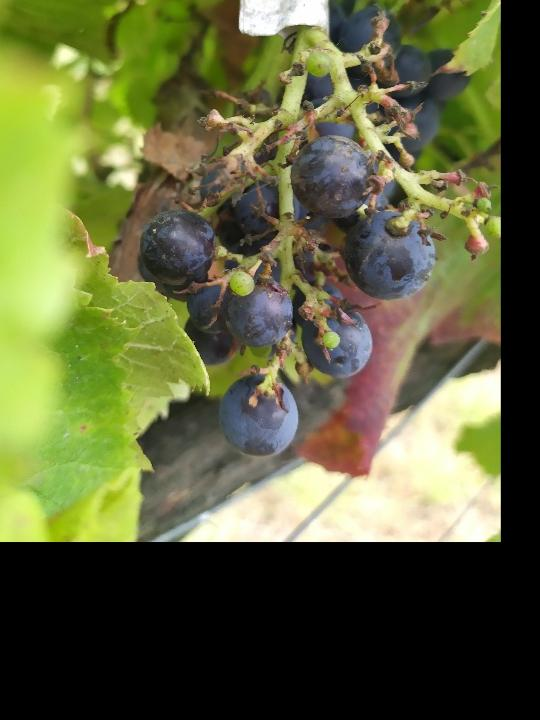grape: (134, 10, 498, 463)
